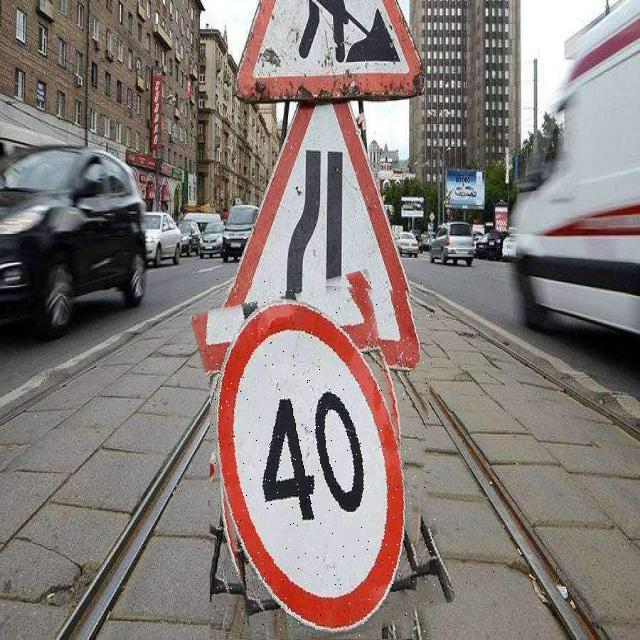speed limit 40: (210, 278, 436, 639)
